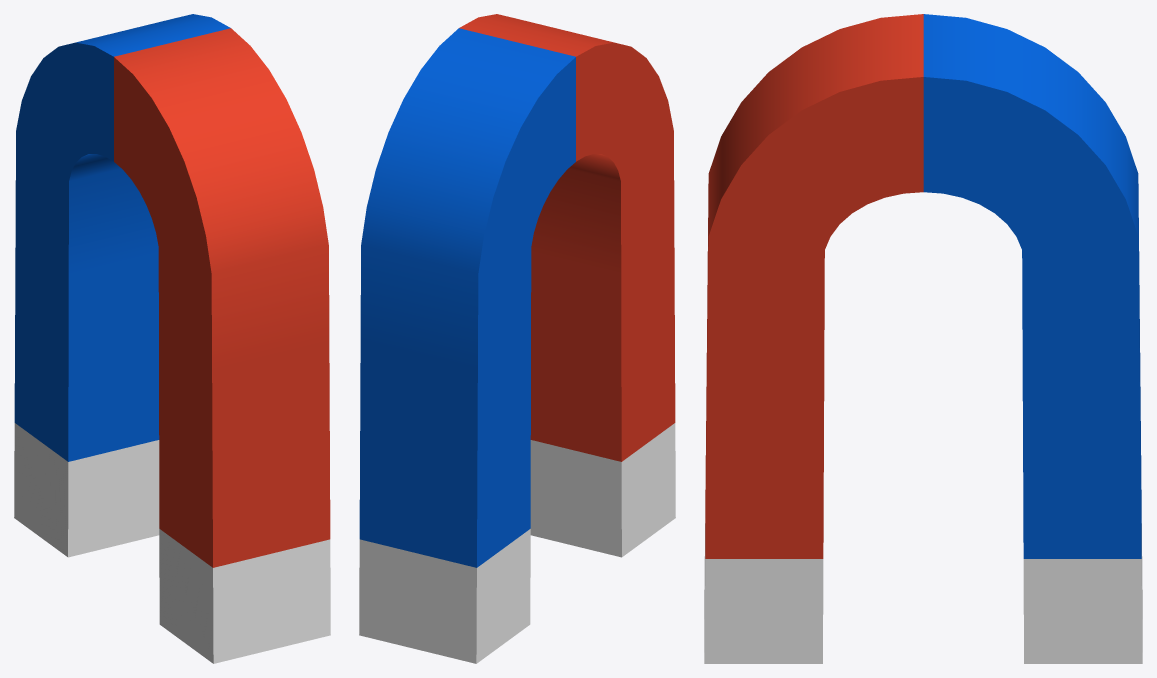
Rendered from magnet.fbx.
3 views of the same model, side by side, from view 1: azimuth 30°, elevation 25°; view 2: azimuth 150°, elevation 25°; view 3: azimuth 270°, elevation 25° (orthographic). The views are drawn at different scales.
Visible parts, largest first — view 1: Circle; view 2: Circle; view 3: Circle.
Boxes of the visible parts, x1,y1,x2,y2 form: Circle: (14,14,330,663); Circle: (359,14,675,663); Circle: (704,14,1142,663).
Bounding box in the file's own units: 91.23 × 397 × 269.
